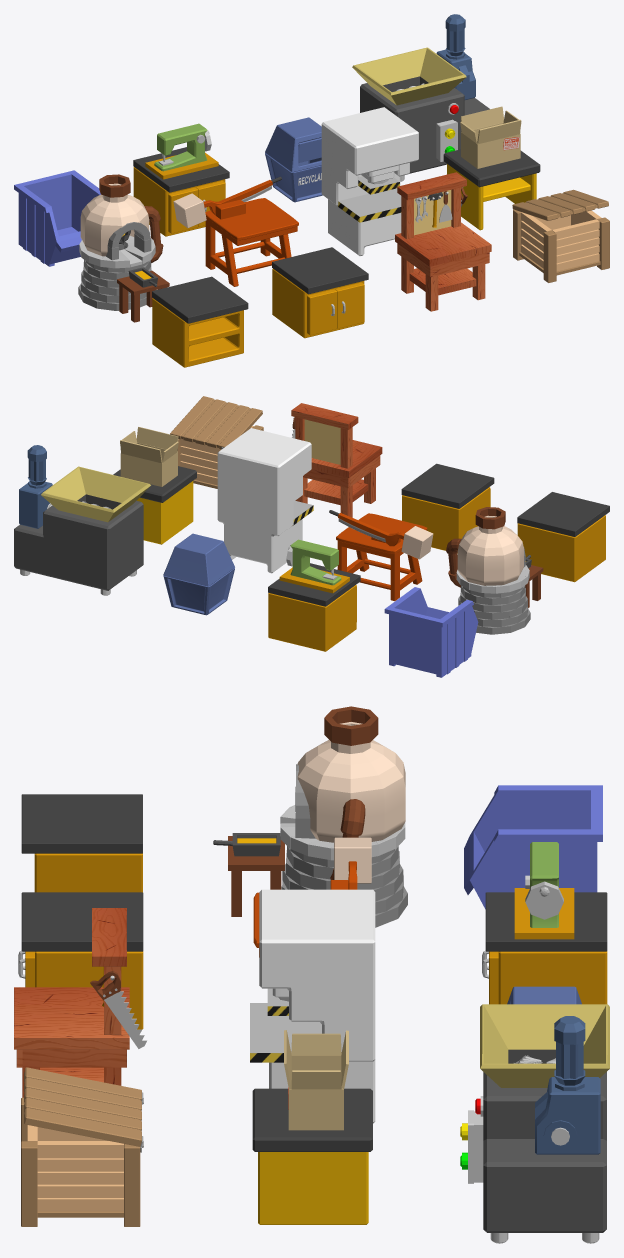
The model's file is Workshop Tables.glb.
The picture shows the model from 3 angles, top to bottom: view 1: azimuth 30°, elevation 25°; view 2: azimuth 150°, elevation 25°; view 3: azimuth 270°, elevation 25°; orthographic projection. The views are drawn at different scales.
Size of the model in its own units: 66.09 by 17.94 by 44.97.
32 materials, 3 textured.
